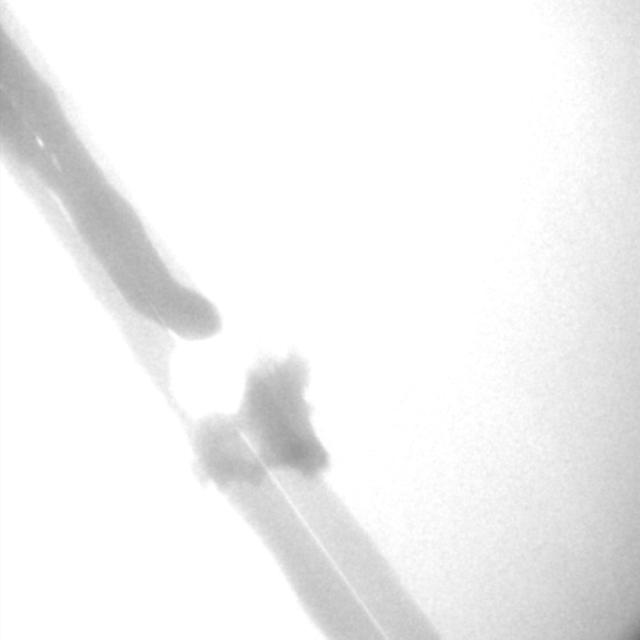air hole: (33, 134, 42, 149)
broken arc: (166, 327, 385, 636)
